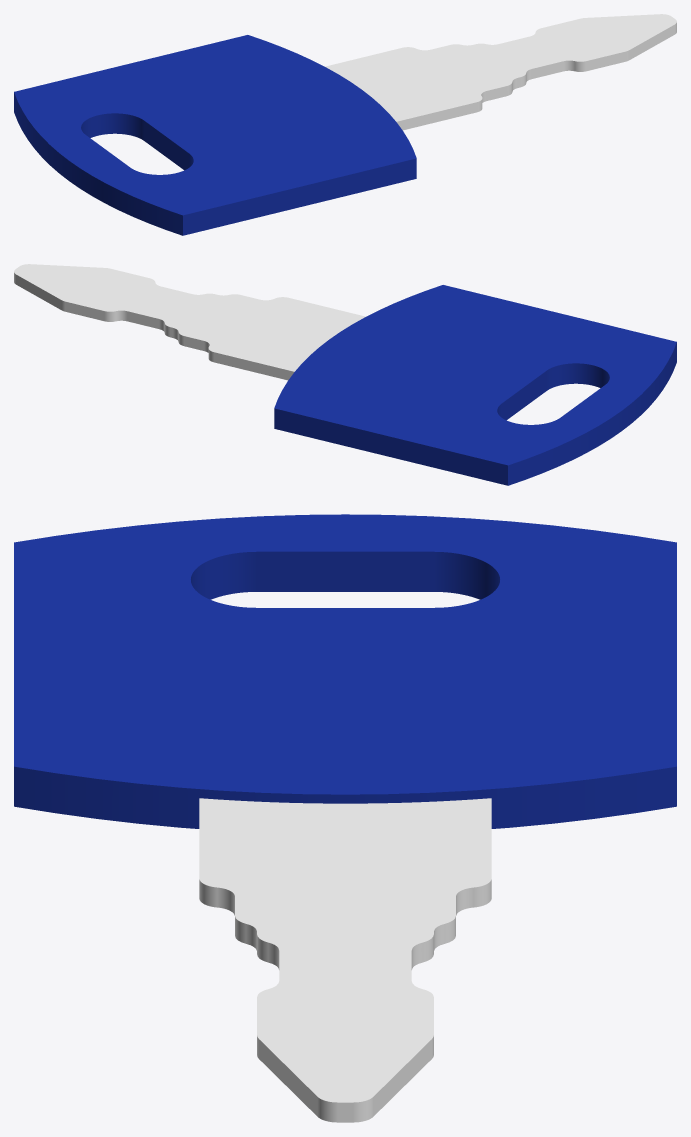
Rendered from Cabinet key_compressed.glb.
3 renders of one model, top to bottom at view 1: azimuth 30°, elevation 25°; view 2: azimuth 150°, elevation 25°; view 3: azimuth 270°, elevation 25°, orthographic. The views are drawn at different scales.
Visible parts, largest first — view 1: Empty; view 2: Empty; view 3: Empty.
Part boxes in pixels (x1,y1,x2,y2): Empty: (14, 14, 676, 235); Empty: (14, 264, 676, 485); Empty: (14, 514, 676, 1122).
Bounding box in the file's own units: 0.0843 × 0.00272 × 0.0408.
